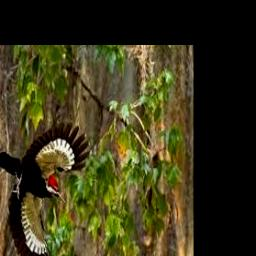Woodpecker: (0, 120, 93, 256)
